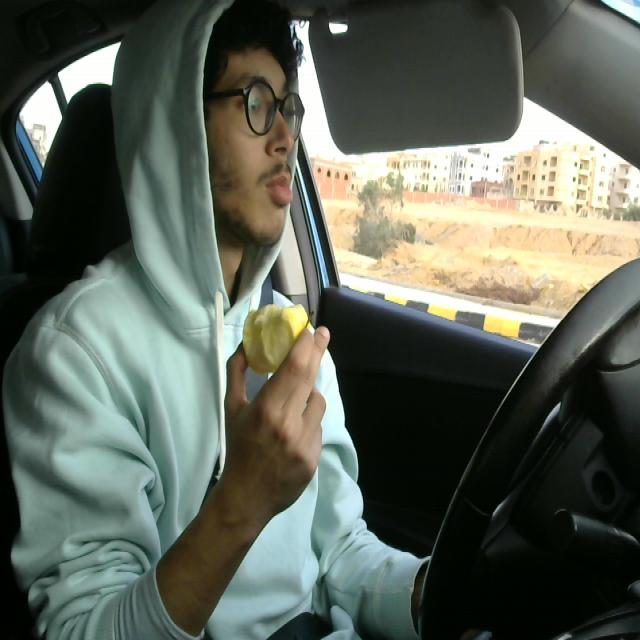eating: (239, 294, 319, 372)
